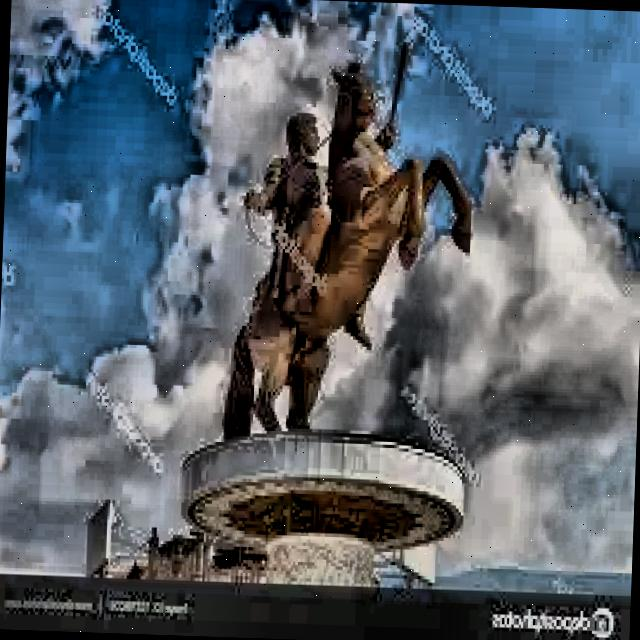alexander the great monument: (178, 31, 488, 592)
